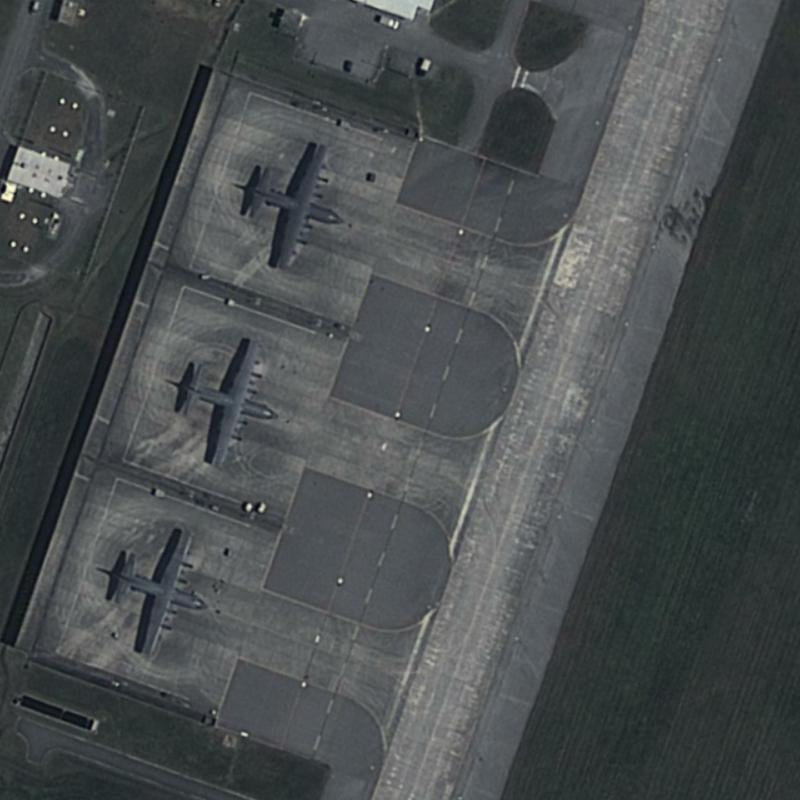A2: (94, 520, 217, 663), (232, 138, 348, 276), (172, 333, 280, 473)
